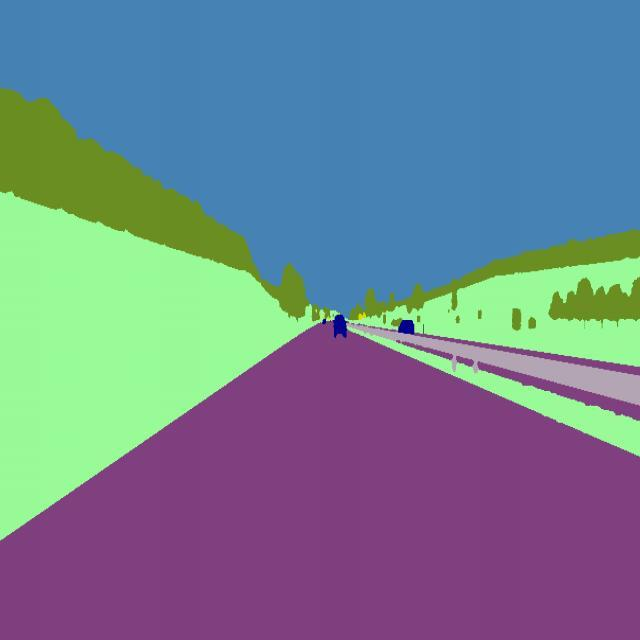safe: (393, 314, 418, 338), (331, 310, 348, 343), (320, 316, 328, 330)
